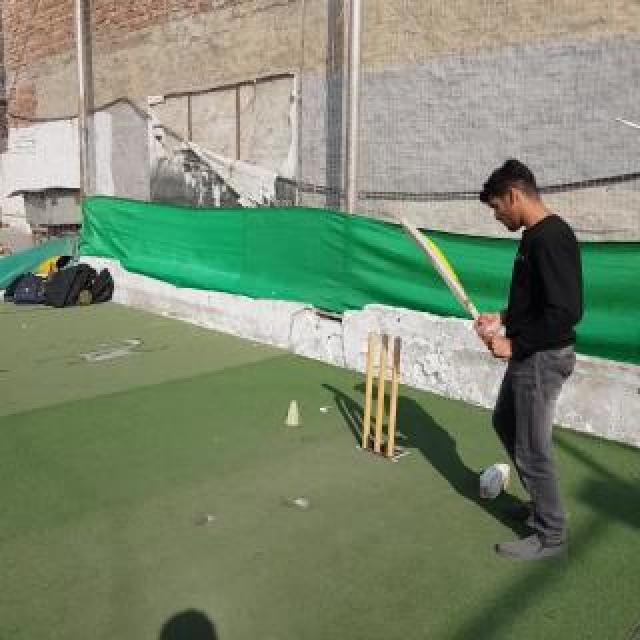bat: (400, 217, 510, 361)
